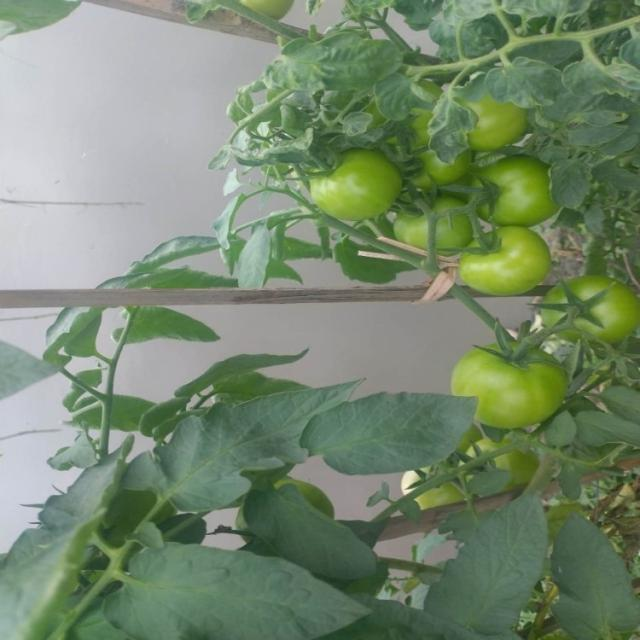tomato: (455, 338, 564, 434), (535, 273, 640, 347), (308, 140, 394, 222), (484, 152, 571, 231), (457, 222, 554, 291), (450, 422, 527, 497), (455, 84, 528, 156), (394, 189, 473, 254), (412, 104, 465, 178), (397, 468, 474, 511)
